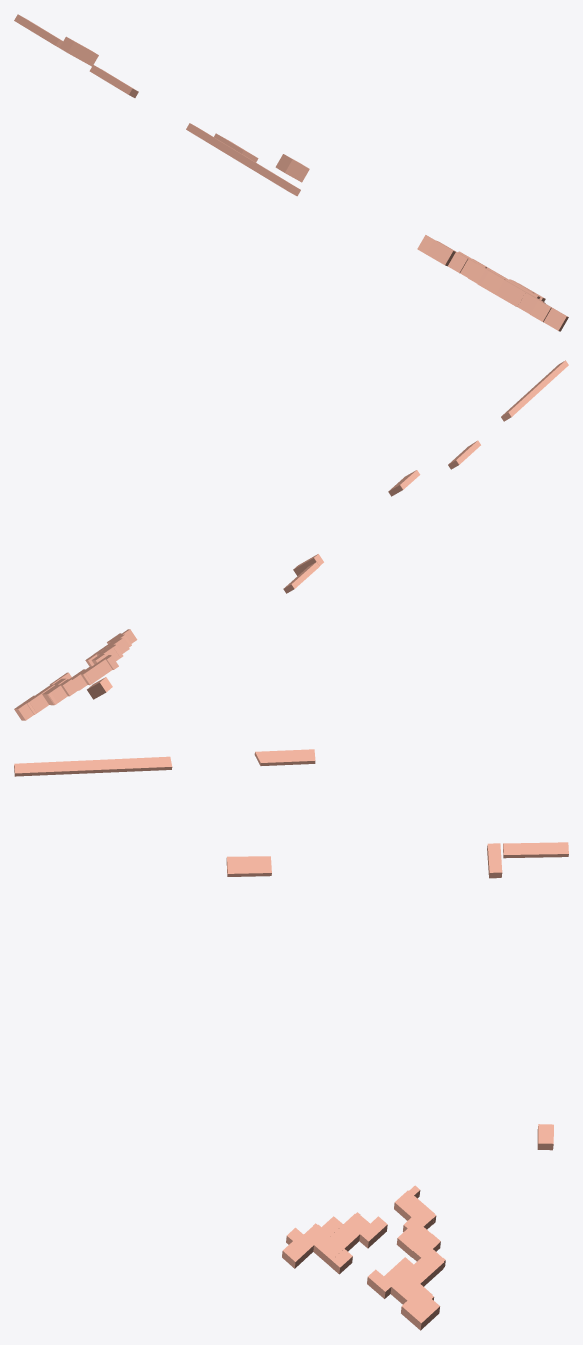
The picture shows the model from 3 angles, top to bottom: view 1: azimuth 30°, elevation 25°; view 2: azimuth 150°, elevation 25°; view 3: azimuth 270°, elevation 25°; orthographic projection. The views are drawn at different scales.
Size of the model in its own units: 176 by 135 by 186.
